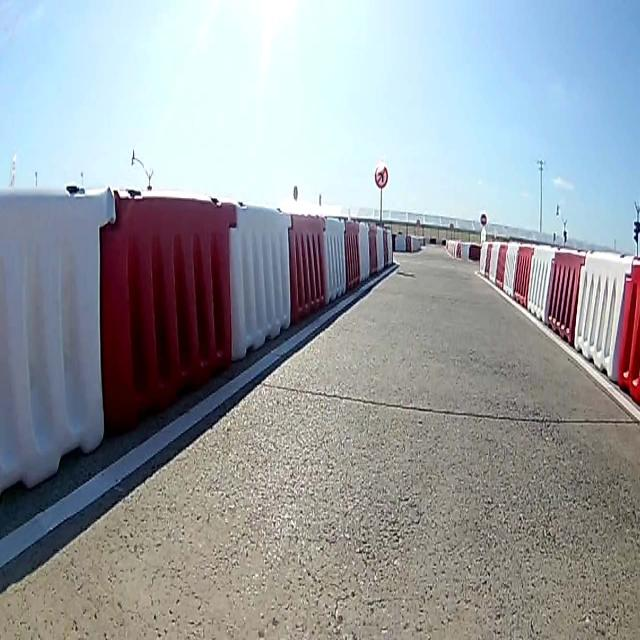soladonulmez: (373, 159, 389, 190)
